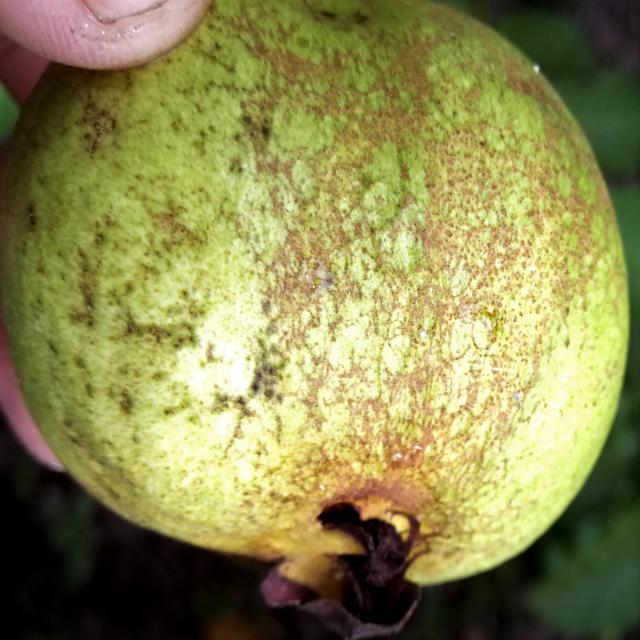Scab: (0, 3, 628, 584)
